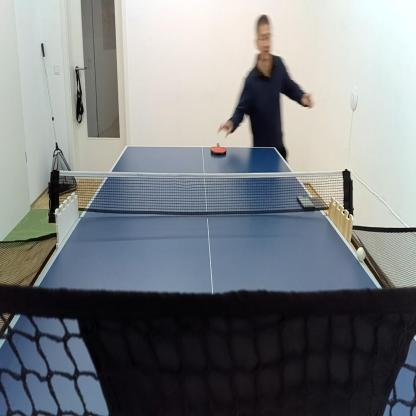Ball: (358, 247, 365, 259)
